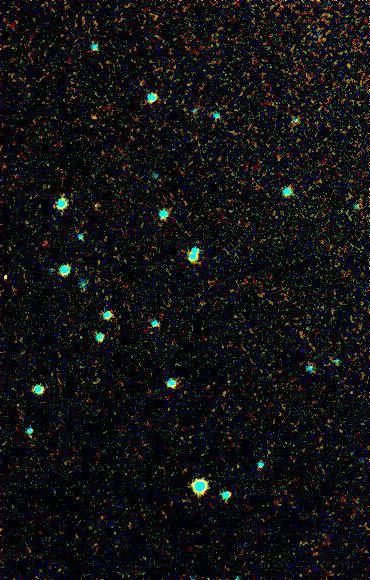star: (81, 102, 111, 132)
